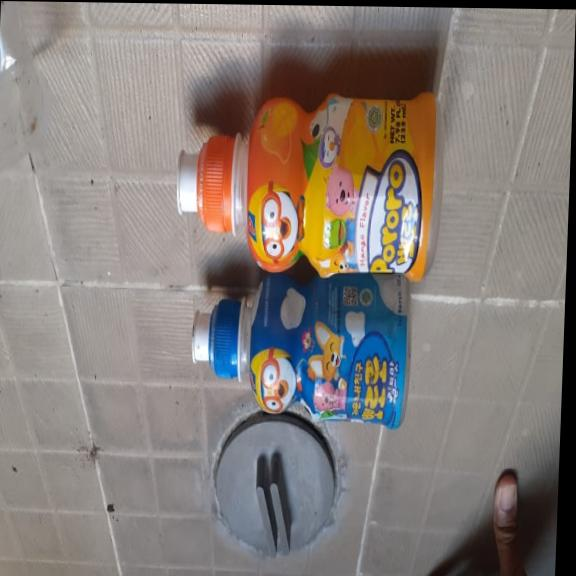Plastik: (172, 84, 448, 284), (188, 274, 411, 429)
